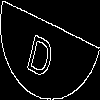D: (25, 24, 58, 80)
